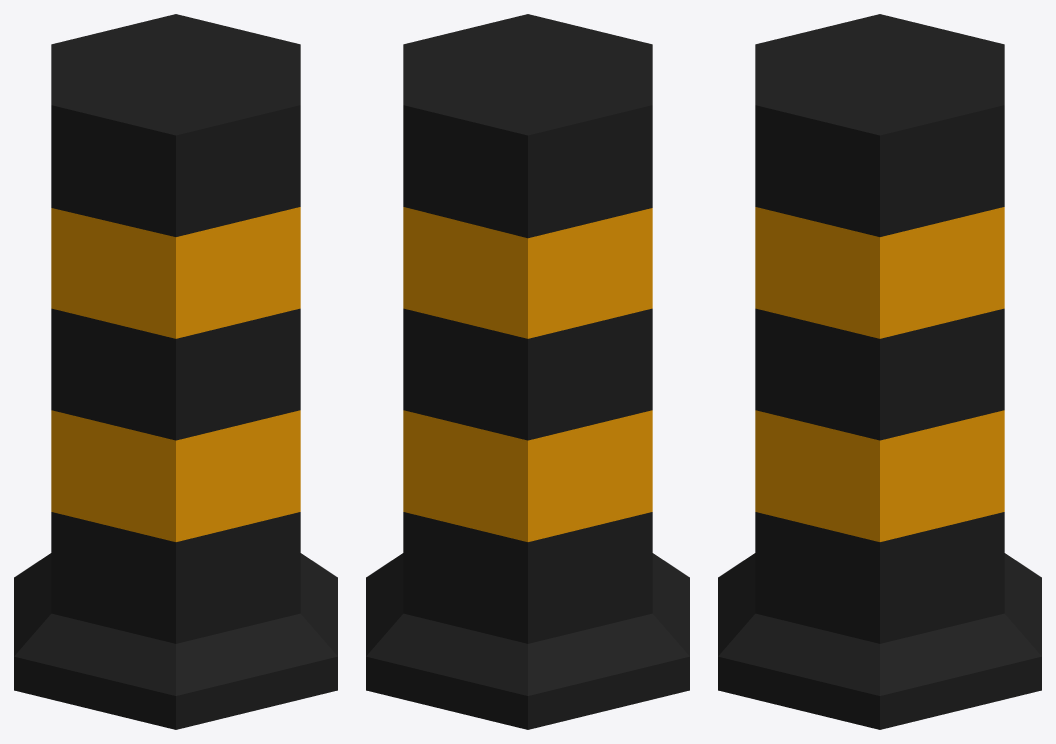
Rendered from Cylinder Cone Short.fbx.
3 renders of one model, left to right at view 1: azimuth 30°, elevation 25°; view 2: azimuth 150°, elevation 25°; view 3: azimuth 270°, elevation 25°, orthographic.
Parts seen in each view (by area): view 1: _(Loose Entity); view 2: _(Loose Entity); view 3: _(Loose Entity).
Part boxes in pixels (left/top/right/bottom): _(Loose Entity): left=14, top=14, right=337, bottom=729; _(Loose Entity): left=366, top=14, right=689, bottom=729; _(Loose Entity): left=718, top=14, right=1041, bottom=729.
Size of the model in its own units: 50 by 85 by 43.3.
